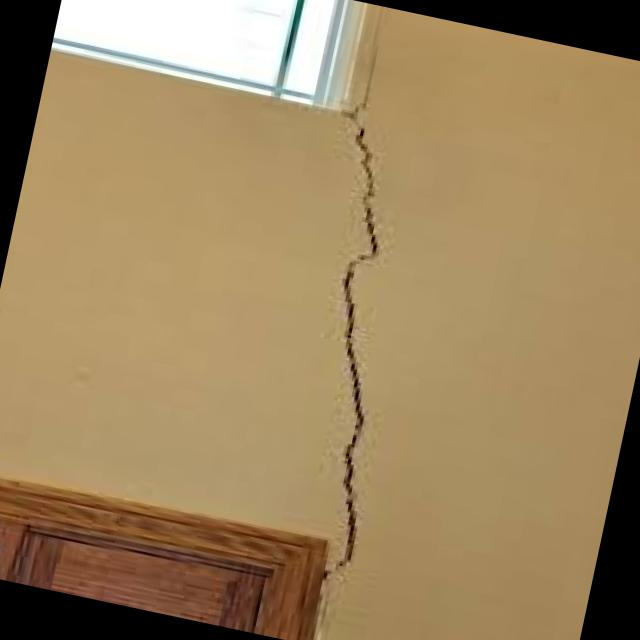crack: (258, 14, 474, 584)
